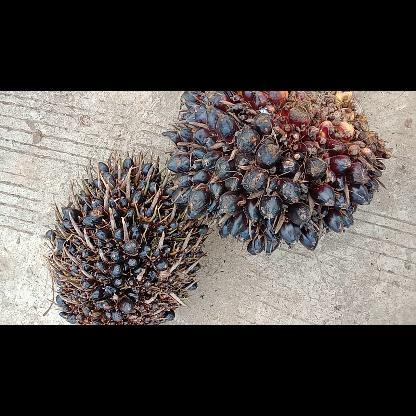TBS mentah: (160, 91, 394, 259), (43, 150, 212, 324)
